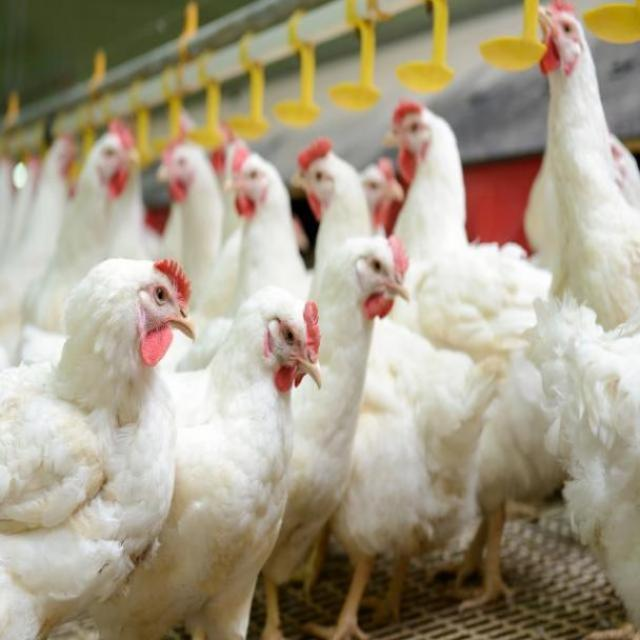Chicken: (121, 257, 195, 349), (260, 288, 319, 391), (357, 239, 414, 318), (534, 2, 590, 79), (298, 148, 353, 220), (228, 150, 276, 222), (93, 125, 138, 197), (155, 134, 204, 200), (362, 154, 406, 227), (391, 102, 438, 170)
